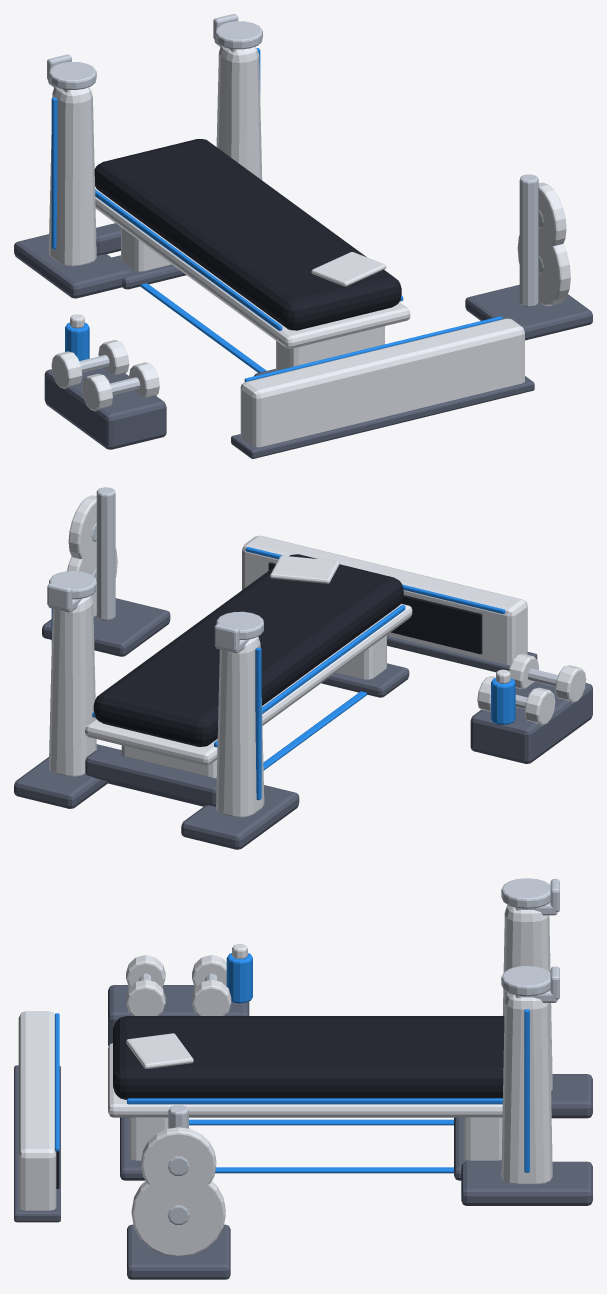
Rendered from Bench_Acier.fbx.
3 views of the same model, one above another, from view 1: azimuth 30°, elevation 25°; view 2: azimuth 150°, elevation 25°; view 3: azimuth 270°, elevation 25° (orthographic). The views are drawn at different scales.
Visible parts, largest first — view 1: Body, Rubber, Trim, Chrome, Glow; view 2: Body, Rubber, Trim, Chrome, Glow; view 3: Body, Rubber, Trim, Glow, Chrome.
Boxes of the visible parts, x1,y1,x2,y2 form: Body: [48, 46, 570, 447]; Rubber: [94, 139, 401, 330]; Trim: [14, 223, 592, 458]; Chrome: [47, 14, 543, 394]; Glow: [51, 48, 502, 381]; Body: [49, 495, 586, 817]; Rubber: [93, 554, 482, 746]; Trim: [14, 598, 592, 849]; Chrome: [47, 487, 558, 708]; Glow: [51, 547, 515, 800]; Body: [18, 905, 552, 1255]; Rubber: [56, 1016, 504, 1188]; Trim: [14, 985, 592, 1279]; Glow: [55, 953, 529, 1173]; Chrome: [139, 878, 559, 1224].
Size of the model in its own units: 13.11 by 5.18 by 12.3.
